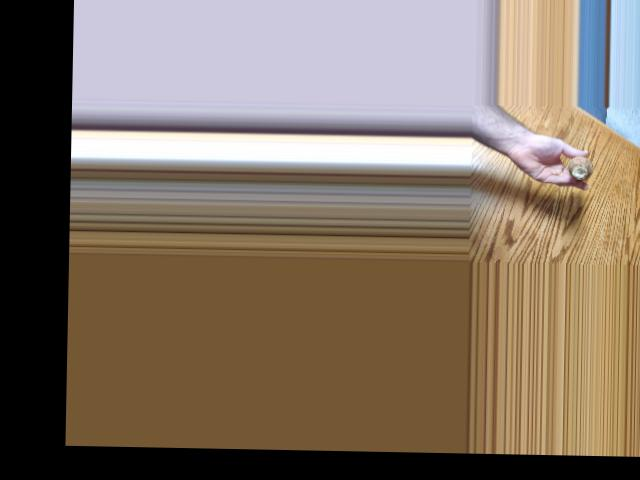sweet_potato: (571, 152, 593, 179)
